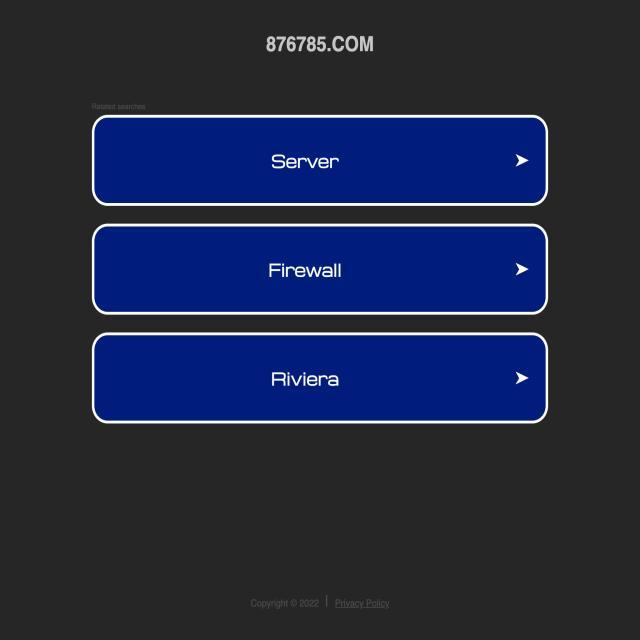button: (100, 104, 534, 204), (97, 222, 544, 316), (111, 340, 552, 420)
link: (253, 26, 385, 65)
